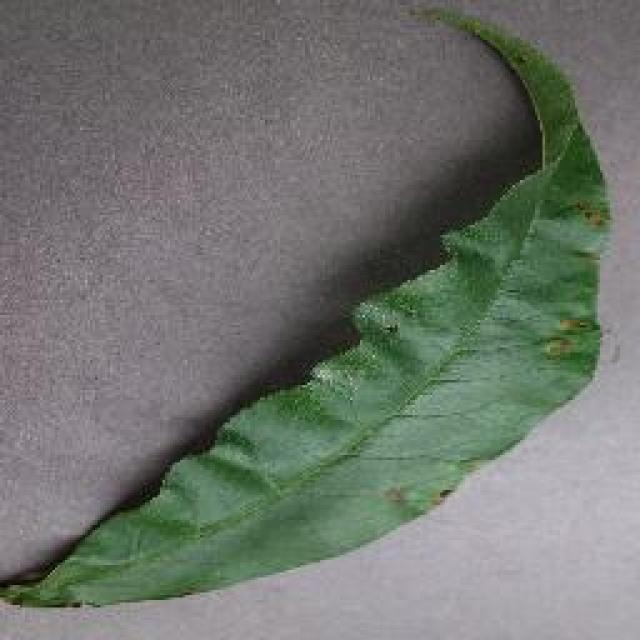Peach_Bacterial_Spot: (317, 265, 630, 518)
